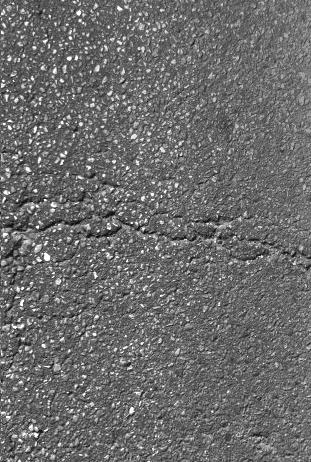crack: (0, 179, 311, 263)
